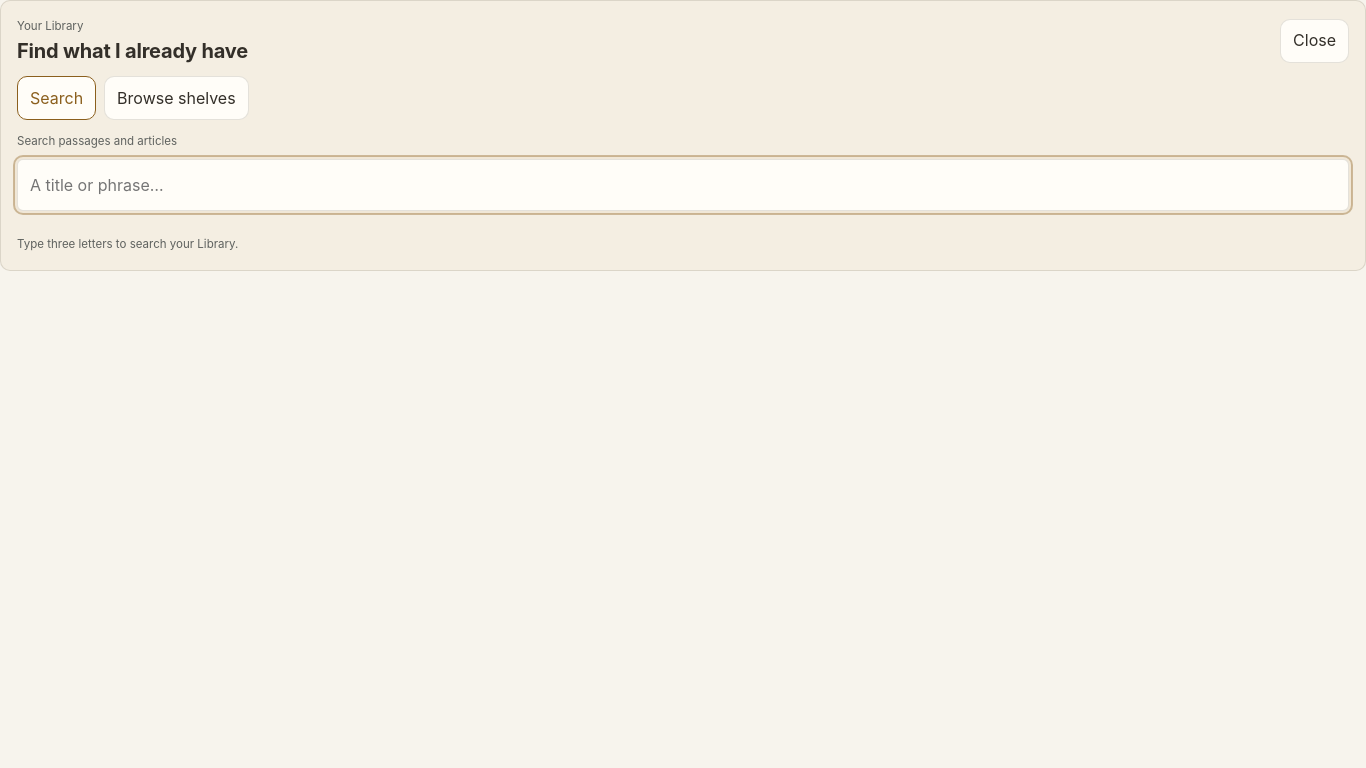
LibraryPassagePicker › does not create or duplicate an existing saved passage
This screenshot has width=1366, height=768.
Type "Nomad" into the search field at x=683, y=185, box [17,159,1349,211]
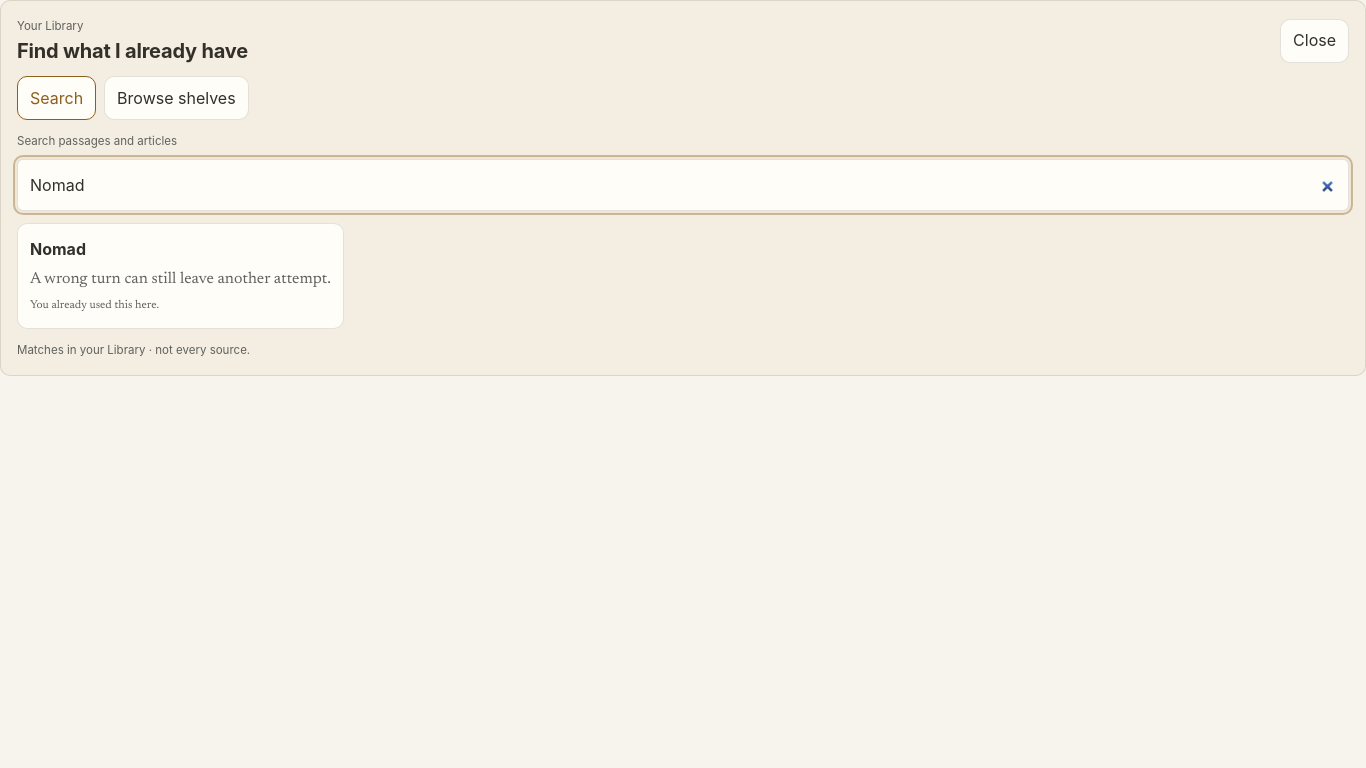
Click the button that starts with "Nomad" at x=180, y=276, box [17,223,344,328]
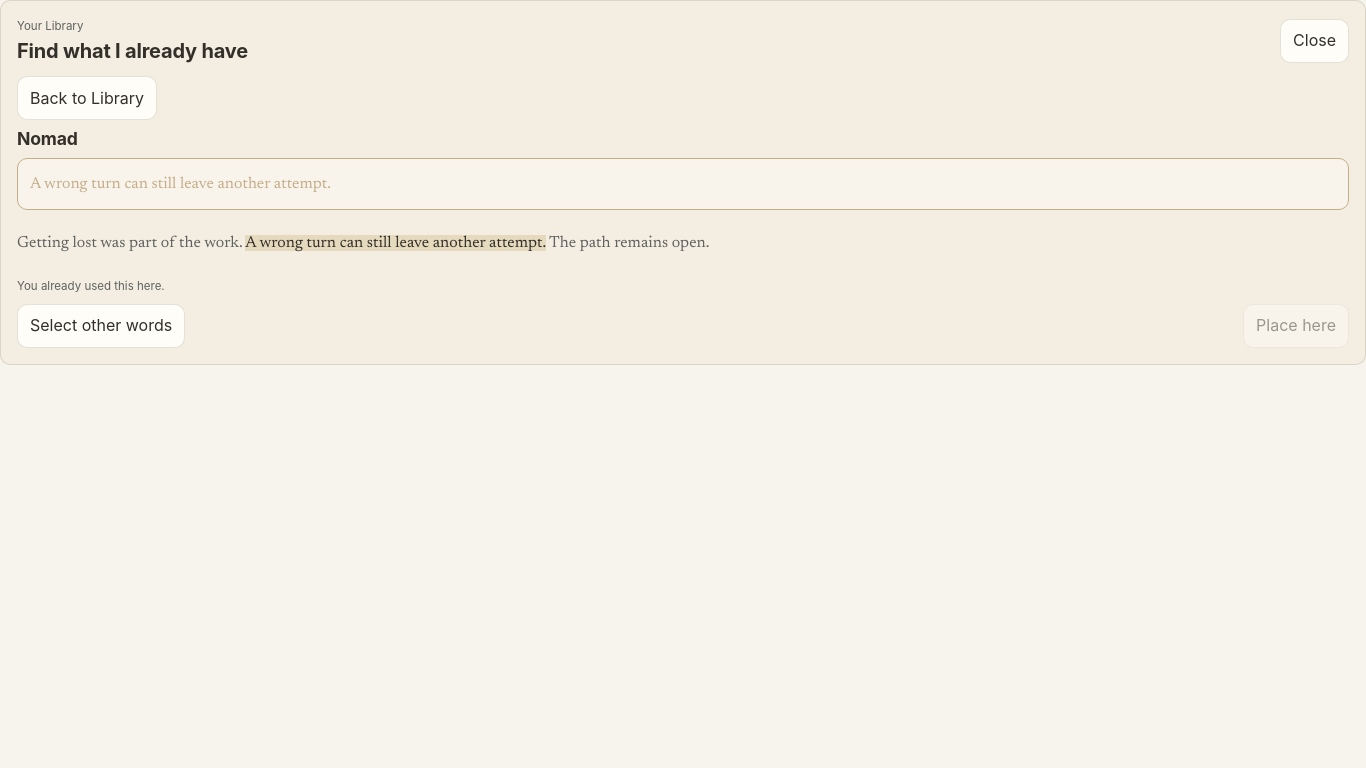
Result: the button "Place here" is disabled at [1243,304,1349,348]
Result: the text "You already used this here." is shown at [17,279,165,293]
